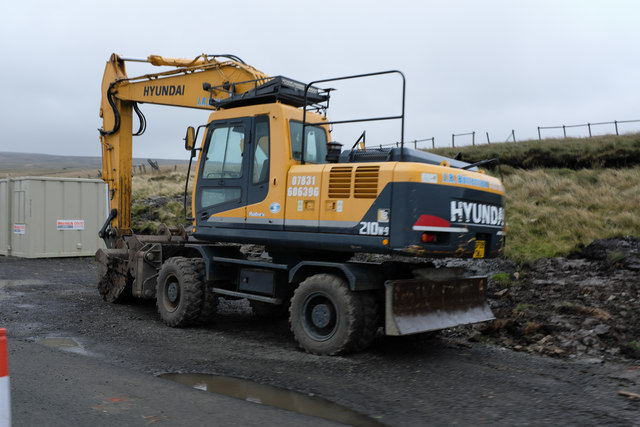excavator: (91, 43, 502, 359)
